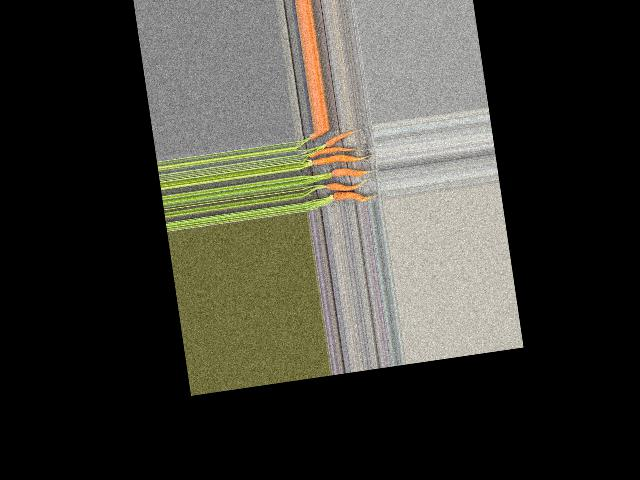carrot: (301, 130, 325, 145)
